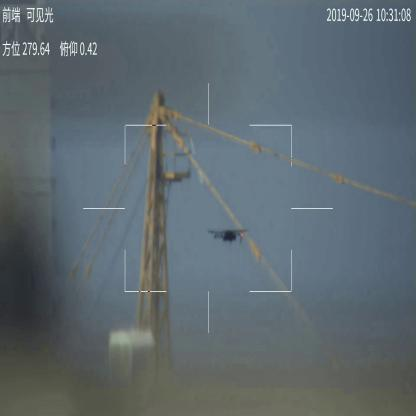uav: (208, 227, 249, 245)
